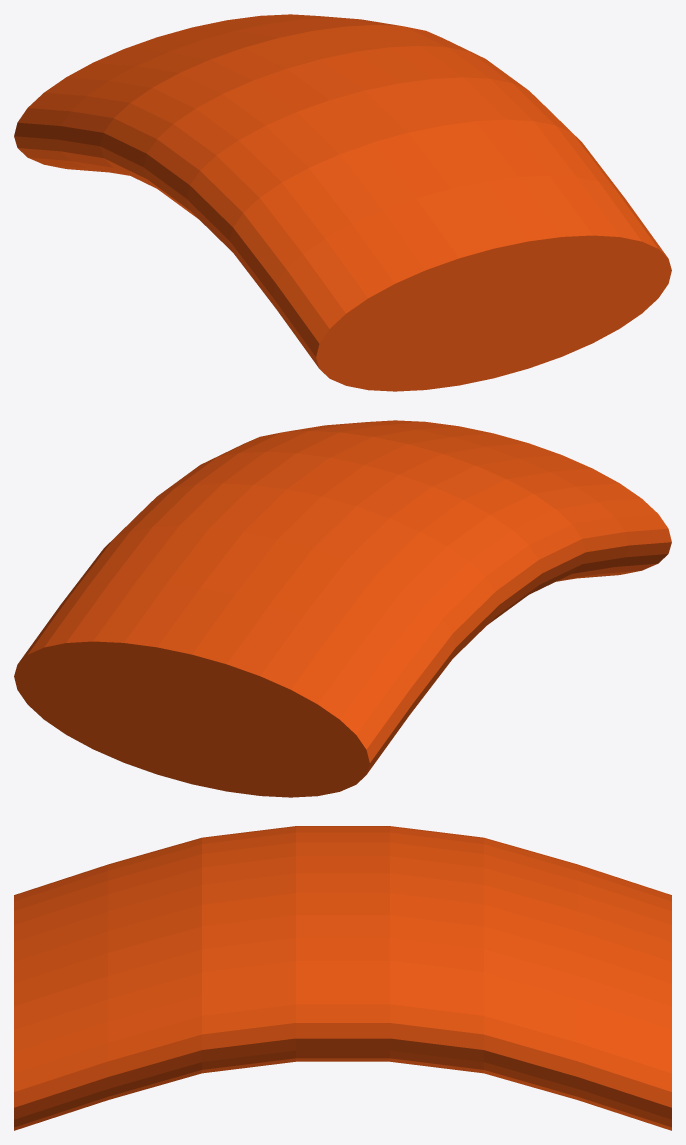
File: PorkCracklingItem.fbx
3 renders of one model, top to bottom at view 1: azimuth 30°, elevation 25°; view 2: azimuth 150°, elevation 25°; view 3: azimuth 270°, elevation 25°, orthographic. The views are drawn at different scales.
Parts seen in each view (by area): view 1: PorkCracklingItem, PorkCracklingItem2, PorkCracklingItem1; view 2: PorkCracklingItem1, PorkCracklingItem2, PorkCracklingItem; view 3: PorkCracklingItem2, PorkCracklingItem, PorkCracklingItem1.
Part boxes in pixels (bbox=[...]): PorkCracklingItem: bbox=[230, 119, 671, 391]; PorkCracklingItem2: bbox=[100, 25, 578, 252]; PorkCracklingItem1: bbox=[14, 14, 402, 175]; PorkCracklingItem1: bbox=[14, 525, 455, 797]; PorkCracklingItem2: bbox=[107, 431, 585, 658]; PorkCracklingItem: bbox=[283, 420, 671, 581]; PorkCracklingItem2: bbox=[202, 826, 483, 1073]; PorkCracklingItem: bbox=[14, 837, 201, 1130]; PorkCracklingItem1: bbox=[484, 837, 671, 1130].
Bounding box in the file's own units: 200 × 104 × 294.
